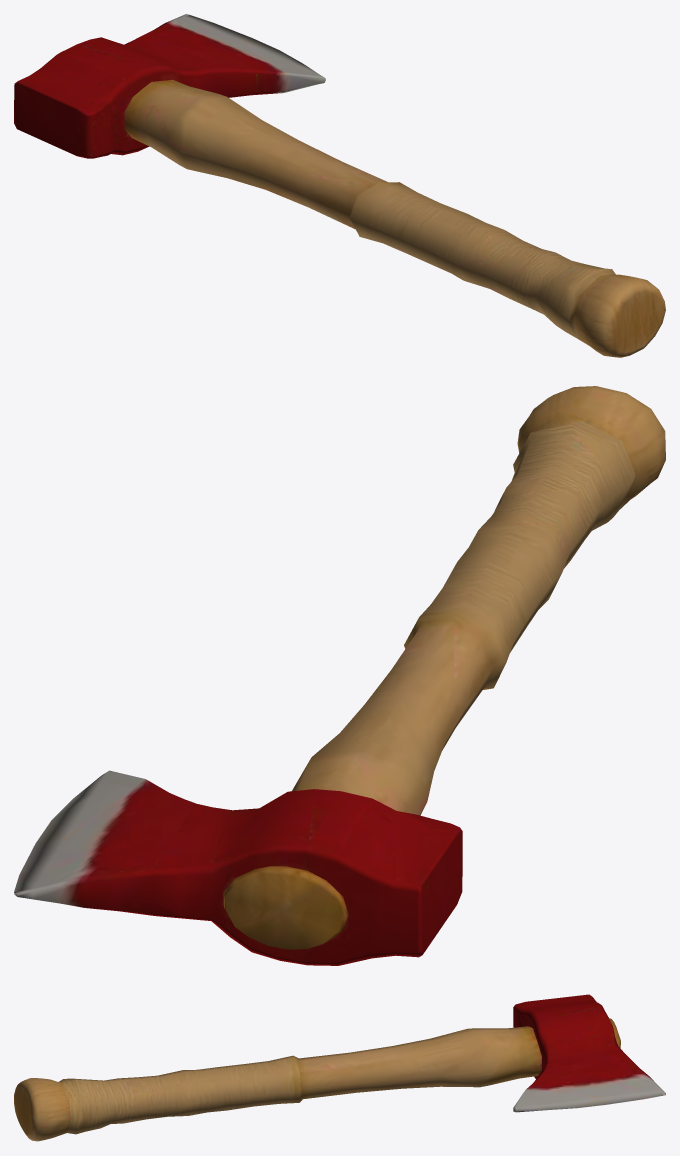
File: m_clan_axe.fbx
3 views of the same model, one above another, from view 1: azimuth 30°, elevation 25°; view 2: azimuth 150°, elevation 25°; view 3: azimuth 270°, elevation 25° (orthographic). The views are drawn at different scales.
Visible parts, largest first — view 1: tripo_node_cf608853-d0e1-4852-92b2-015796e5ce72; view 2: tripo_node_cf608853-d0e1-4852-92b2-015796e5ce72; view 3: tripo_node_cf608853-d0e1-4852-92b2-015796e5ce72.
Boxes of the visible parts, bbox=[...] form: tripo_node_cf608853-d0e1-4852-92b2-015796e5ce72: bbox=[14, 14, 665, 357]; tripo_node_cf608853-d0e1-4852-92b2-015796e5ce72: bbox=[14, 386, 665, 965]; tripo_node_cf608853-d0e1-4852-92b2-015796e5ce72: bbox=[14, 994, 665, 1141].
Size of the model in its own units: 0.4355 by 0.1192 by 1.11.
1 material, 1 textured.
